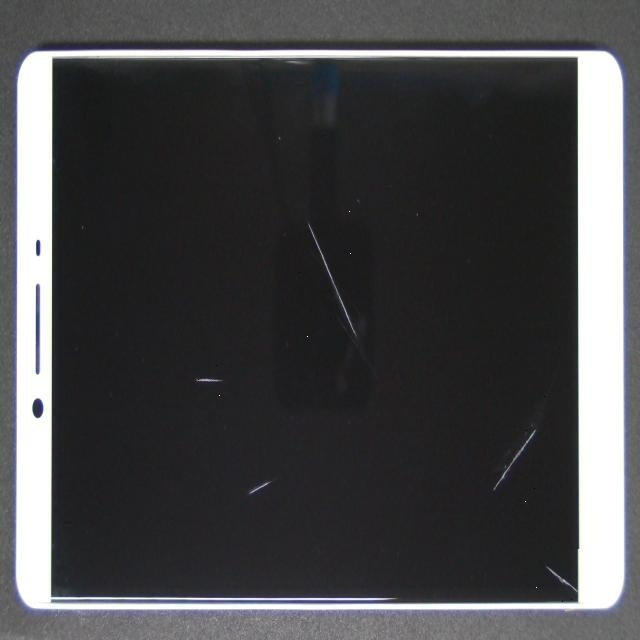scratch: (243, 241, 640, 640), (249, 294, 640, 640), (119, 247, 357, 640), (101, 206, 305, 618), (168, 75, 456, 292)
